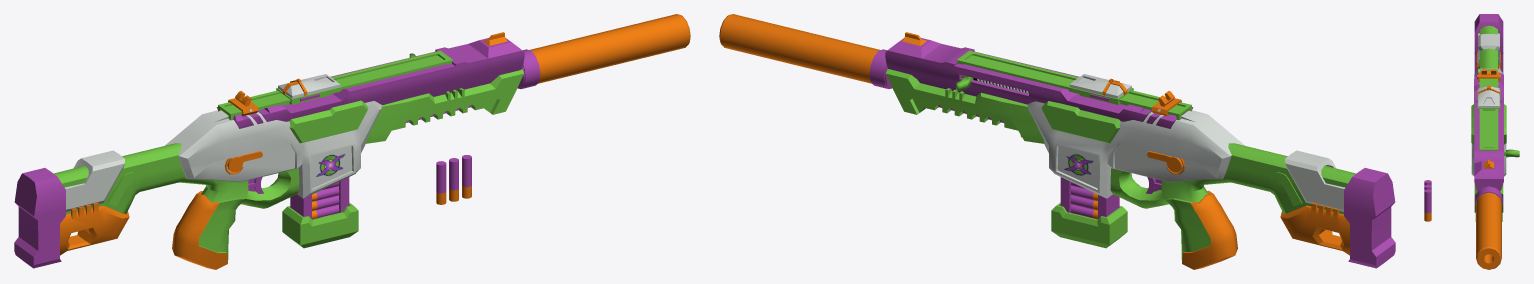
3 renders of one model, left to right at view 1: azimuth 30°, elevation 25°; view 2: azimuth 150°, elevation 25°; view 3: azimuth 270°, elevation 25°, orthographic. The views are drawn at different scales.
Visible parts, largest first — view 1: 10_low, 6_low, 11_low, 1_low, 25_low, 9_low, 12_low, 8_low, 23_low, 7_low, 21_low, 16_low (+4 smaller); view 2: 10_low, 6_low, 11_low, 1_low, 25_low, 9_low, 12_low, 8_low, 23_low, 7_low, 21_low, 16_low (+1 smaller); view 3: 1_low, 11_low, 12_low, 25_low, 6_low, 16_low, 7_low, 10_low, 21_low, 30_low.018, 14_low, 9_low (+4 smaller).
Part boxes in pixels (x1,y1,x2,y2): 10_low: [165, 101, 382, 198]; 6_low: [53, 143, 299, 269]; 11_low: [216, 38, 524, 128]; 1_low: [518, 14, 690, 88]; 25_low: [14, 168, 65, 268]; 9_low: [365, 69, 524, 143]; 12_low: [218, 50, 453, 120]; 8_low: [60, 202, 129, 255]; 23_low: [282, 202, 358, 248]; 7_low: [65, 150, 124, 211]; 21_low: [289, 100, 368, 143]; 16_low: [278, 74, 340, 98]; 10_low: [1027, 101, 1244, 198]; 6_low: [1110, 143, 1356, 269]; 11_low: [885, 38, 1193, 128]; 1_low: [719, 14, 891, 88]; 25_low: [1344, 168, 1395, 268]; 9_low: [885, 69, 1044, 143]; 12_low: [956, 50, 1191, 120]; 8_low: [1280, 202, 1349, 255]; 23_low: [1051, 202, 1127, 248]; 7_low: [1285, 150, 1344, 211]; 21_low: [1041, 101, 1120, 143]; 16_low: [1069, 74, 1131, 98]; 1_low: [1475, 186, 1502, 269]; 11_low: [1474, 73, 1503, 191]; 12_low: [1479, 69, 1498, 150]; 25_low: [1474, 14, 1503, 73]; 6_low: [1479, 25, 1498, 68]; 16_low: [1478, 86, 1499, 107]; 7_low: [1478, 33, 1499, 64]; 10_low: [1471, 68, 1506, 176]; 21_low: [1471, 104, 1506, 144]; 30_low.018: [1424, 189, 1431, 221]; 14_low: [1477, 72, 1500, 81]; 9_low: [1474, 184, 1503, 212].
Bounding box in the file's own units: 18 × 4.35 × 3.06.
1 material, 1 textured.
